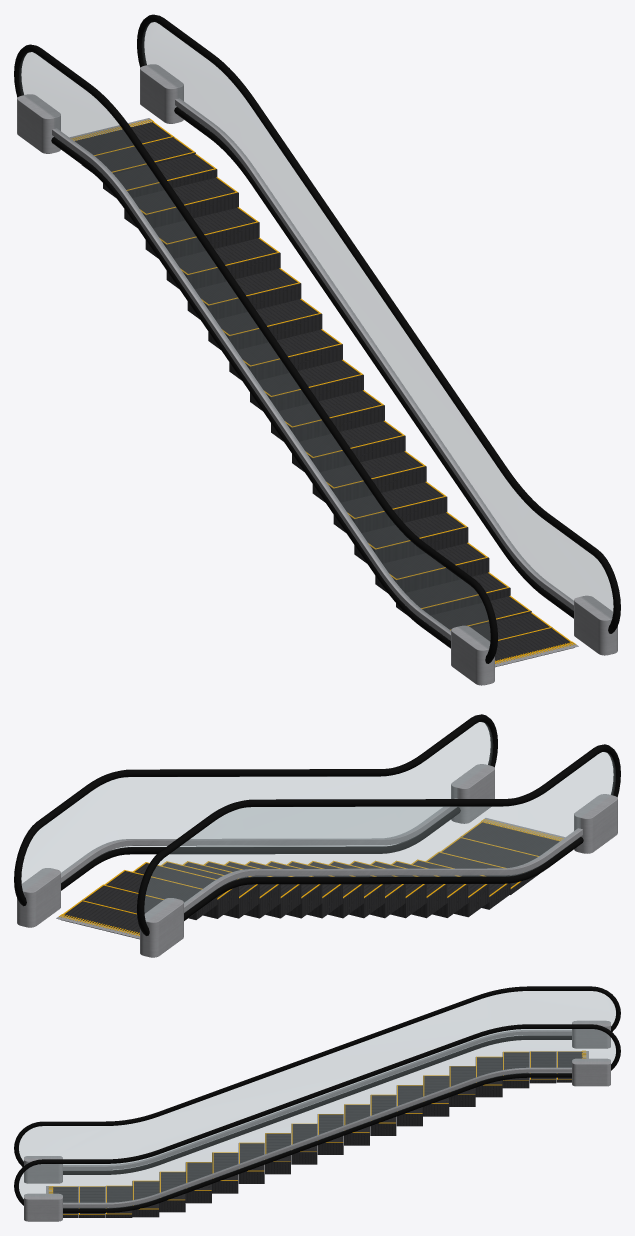
The model's file is gteki_ik_escalator_w1009_rise2210_a2193.glb.
3 views of the same model, one above another, from view 1: azimuth 30°, elevation 25°; view 2: azimuth 150°, elevation 25°; view 3: azimuth 270°, elevation 25° (orthographic). The views are drawn at different scales.
Visible parts, largest first — view 1: VIS_balustrades, VIS_steps, VIS_moving_handrails, VIS_balustrade_shoes, VIS_newel_bases, VIS_demarcation, VIS_comb_plates; view 2: VIS_balustrades, VIS_steps, VIS_moving_handrails, VIS_newel_bases, VIS_balustrade_shoes, VIS_demarcation, VIS_comb_plates; view 3: VIS_balustrades, VIS_steps, VIS_moving_handrails, VIS_balustrade_shoes, VIS_newel_bases, VIS_demarcation.
Part boxes in pixels (x1,y1,x2,y2): VIS_balustrades: (19, 22, 613, 649); VIS_steps: (75, 122, 574, 667); VIS_moving_handrails: (14, 14, 620, 663); VIS_balustrade_shoes: (52, 98, 573, 640); VIS_newel_bases: (17, 64, 617, 685); VIS_demarcation: (94, 121, 572, 662); VIS_comb_plates: (70, 118, 578, 666); VIS_balustrades: (21, 722, 615, 921); VIS_steps: (61, 822, 559, 939); VIS_moving_handrails: (14, 714, 620, 935); VIS_newel_bases: (17, 764, 617, 957); VIS_balustrade_shoes: (61, 798, 582, 912); VIS_demarcation: (62, 821, 559, 915); VIS_comb_plates: (56, 818, 564, 938); VIS_balustrades: (19, 991, 615, 1208); VIS_steps: (53, 1051, 582, 1217); VIS_moving_handrails: (14, 986, 620, 1212); VIS_balustrade_shoes: (63, 1030, 571, 1207); VIS_newel_bases: (24, 1020, 610, 1221); VIS_demarcation: (52, 1051, 582, 1214).
Size of the model in its own units: 1.53 by 3.24 by 9.
Materials: 5 (2 with a texture image).
